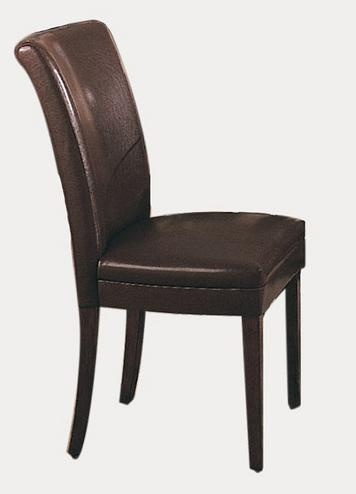obstacle: (15, 21, 304, 471)
